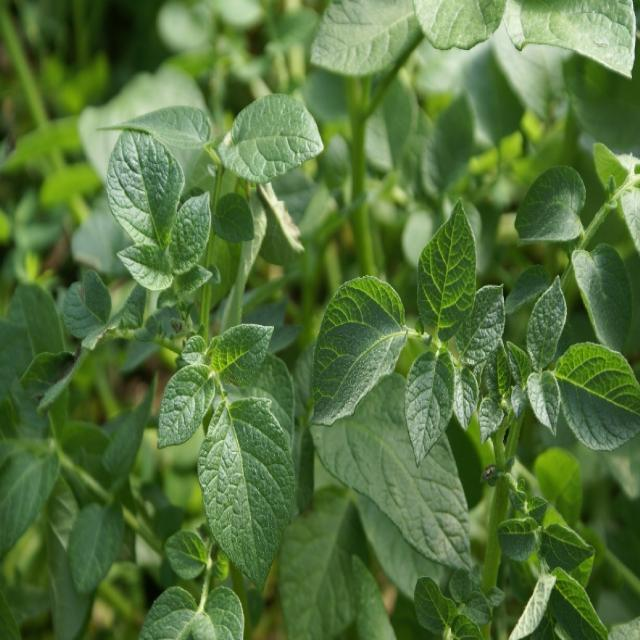Healthy Leaf: (200, 400, 302, 590), (314, 275, 408, 425), (559, 341, 640, 453), (108, 120, 178, 248), (417, 185, 472, 342), (218, 101, 326, 180), (152, 360, 216, 454), (406, 348, 453, 466), (528, 276, 564, 371)
